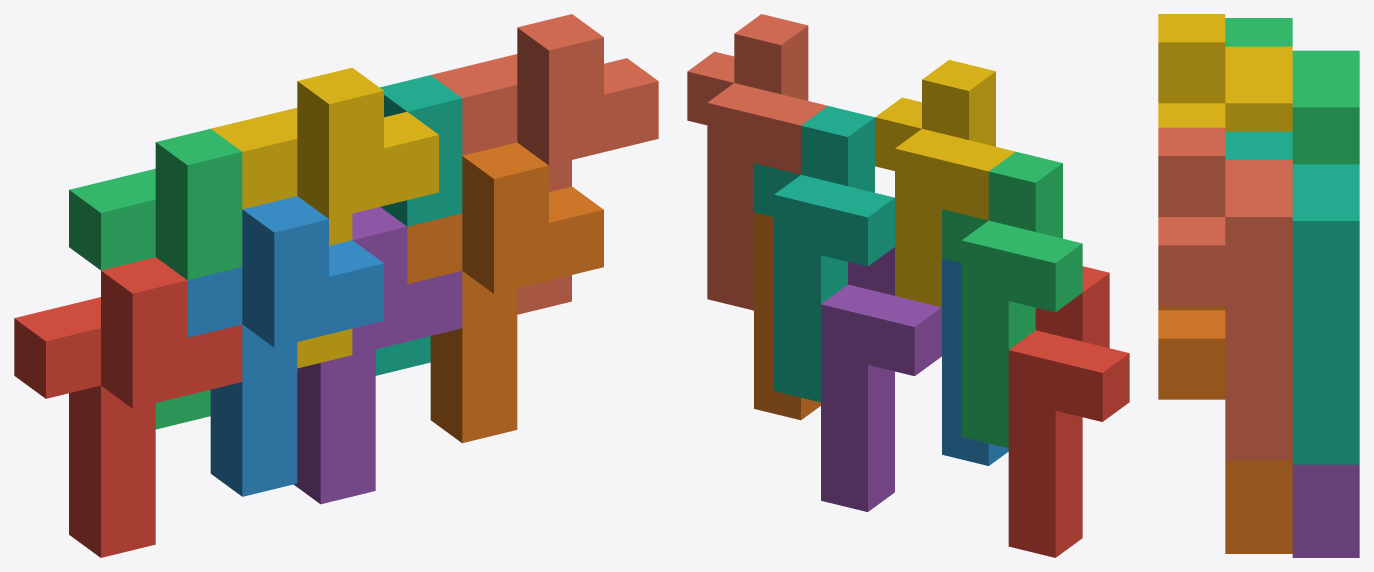
Rendered from tiling.obj.
3 renders of one model, left to right at view 1: azimuth 30°, elevation 25°; view 2: azimuth 150°, elevation 25°; view 3: azimuth 270°, elevation 25°, orthographic. The views are drawn at different scales.
Visible parts, largest first — view 1: copy_1_domain_1, copy_1_domain_2, copy_1_domain_6, copy_1_domain_4, copy_1_domain_8, copy_1_domain_3, copy_1_domain_5, copy_1_domain_7; view 2: copy_1_domain_3, copy_1_domain_7, copy_1_domain_1, copy_1_domain_8, copy_1_domain_5, copy_1_domain_4, copy_1_domain_6, copy_1_domain_2; view 3: copy_1_domain_8, copy_1_domain_7, copy_1_domain_4, copy_1_domain_6, copy_1_domain_3, copy_1_domain_5.
Part boxes in pixels (bbox=[...]): copy_1_domain_1: bbox=[14, 257, 242, 557]; copy_1_domain_2: bbox=[187, 196, 383, 496]; copy_1_domain_6: bbox=[407, 142, 603, 443]; copy_1_domain_4: bbox=[211, 67, 438, 368]; copy_1_domain_8: bbox=[431, 14, 658, 314]; copy_1_domain_3: bbox=[69, 128, 242, 429]; copy_1_domain_5: bbox=[293, 207, 462, 504]; copy_1_domain_7: bbox=[375, 75, 462, 375]; copy_1_domain_3: bbox=[942, 151, 1082, 448]; copy_1_domain_7: bbox=[754, 106, 894, 402]; copy_1_domain_1: bbox=[1008, 266, 1129, 557]; copy_1_domain_8: bbox=[687, 14, 827, 310]; copy_1_domain_5: bbox=[821, 247, 941, 511]; copy_1_domain_4: bbox=[875, 60, 1015, 307]; copy_1_domain_6: bbox=[754, 212, 820, 420]; copy_1_domain_2: bbox=[942, 258, 1008, 465]; copy_1_domain_8: bbox=[1158, 127, 1292, 460]; copy_1_domain_7: bbox=[1225, 131, 1359, 464]; copy_1_domain_4: bbox=[1158, 14, 1292, 131]; copy_1_domain_6: bbox=[1158, 306, 1292, 553]; copy_1_domain_3: bbox=[1225, 18, 1359, 164]; copy_1_domain_5: bbox=[1292, 464, 1359, 557].
Size of the model in its own units: 10 by 8 by 3.
